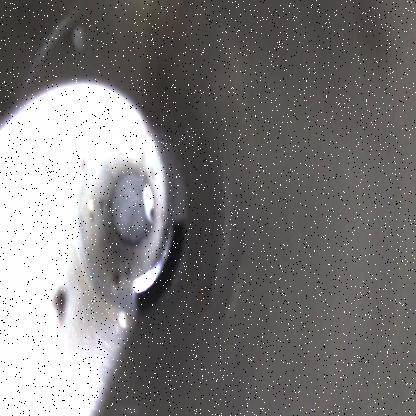Crack2: (132, 219, 187, 315)
